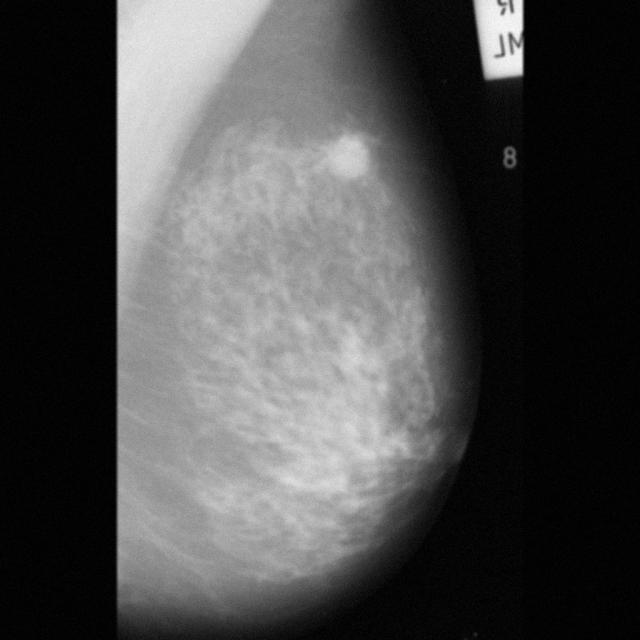SPIC: (325, 134, 371, 181)
